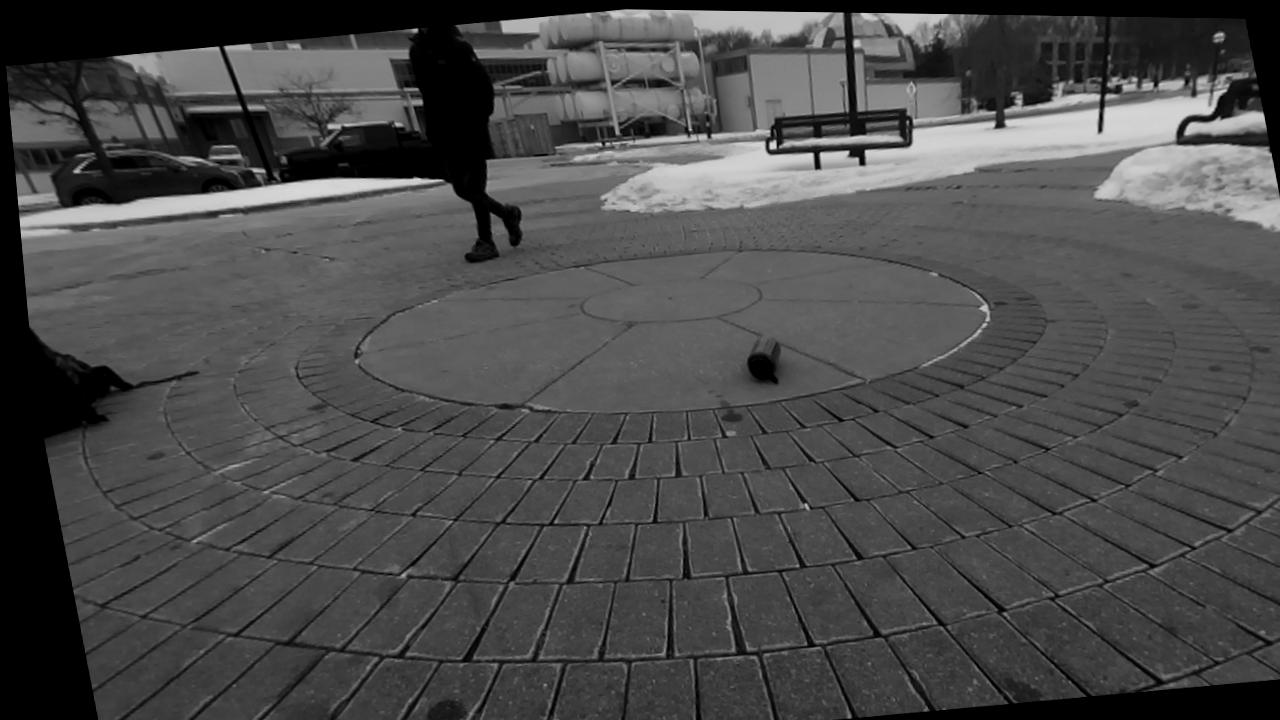bottle: (747, 336, 781, 382)
